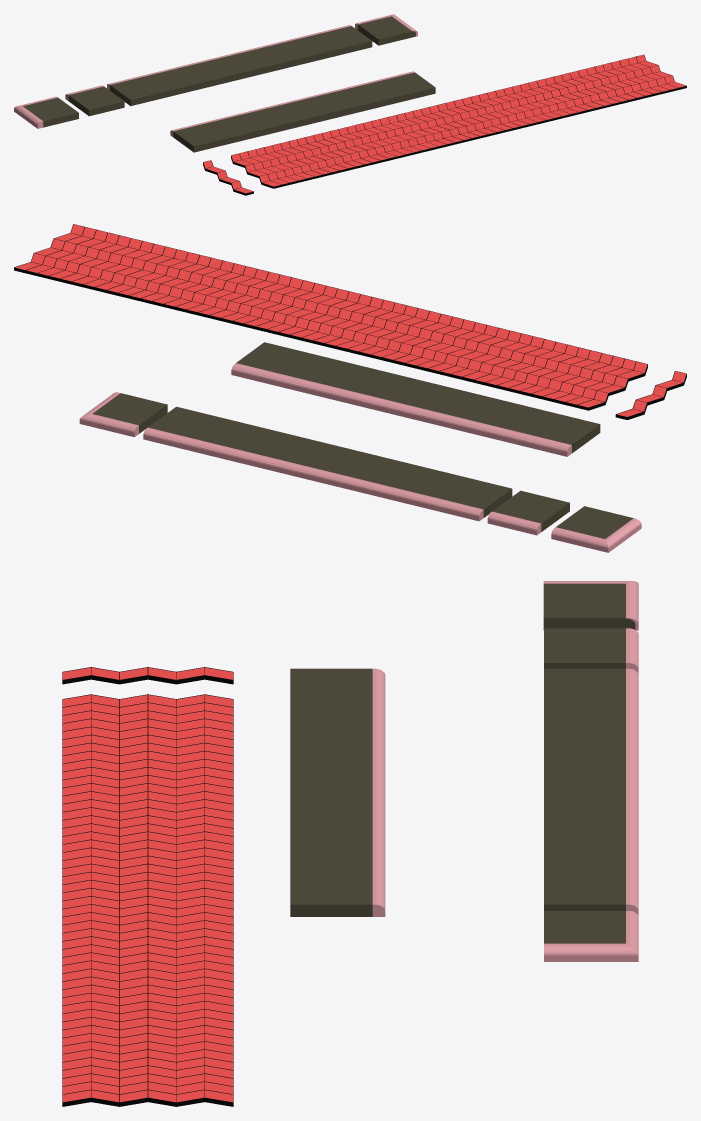
The picture shows the model from 3 angles, top to bottom: view 1: azimuth 30°, elevation 25°; view 2: azimuth 150°, elevation 25°; view 3: azimuth 270°, elevation 25°; orthographic projection. The views are drawn at different scales.
Parts seen in each view (by area): view 1: Cube.008, Cube.001, Cube.007, Cube.004, Cube, Cube.005, Cube.002; view 2: Cube.008, Cube.001, Cube.007, Cube.004, Cube, Cube.005, Cube.002; view 3: Cube.008, Cube.001, Cube.007, Cube, Cube.004, Cube.005, Cube.002.
Part boxes in pixels (x1,y1,x2,y2): Cube.008: [231, 54, 686, 188]; Cube.001: [170, 71, 435, 152]; Cube.007: [107, 25, 372, 106]; Cube.004: [14, 96, 78, 128]; Cube: [355, 14, 417, 45]; Cube.005: [65, 85, 124, 116]; Cube.002: [203, 160, 253, 195]; Cube.008: [14, 224, 647, 410]; Cube.001: [231, 342, 600, 456]; Cube.007: [143, 406, 512, 521]; Cube.004: [551, 506, 641, 552]; Cube: [79, 392, 167, 437]; Cube.005: [487, 490, 569, 535]; Cube.002: [615, 371, 686, 419]; Cube.008: [62, 694, 233, 1106]; Cube.001: [290, 668, 385, 916]; Cube.007: [544, 668, 638, 915]; Cube: [544, 911, 638, 961]; Cube.004: [543, 581, 638, 630]; Cube.005: [544, 628, 638, 673]; Cube.002: [62, 667, 233, 684].
Bounding box in the file's own units: 2977 × 33.67 × 1405.
